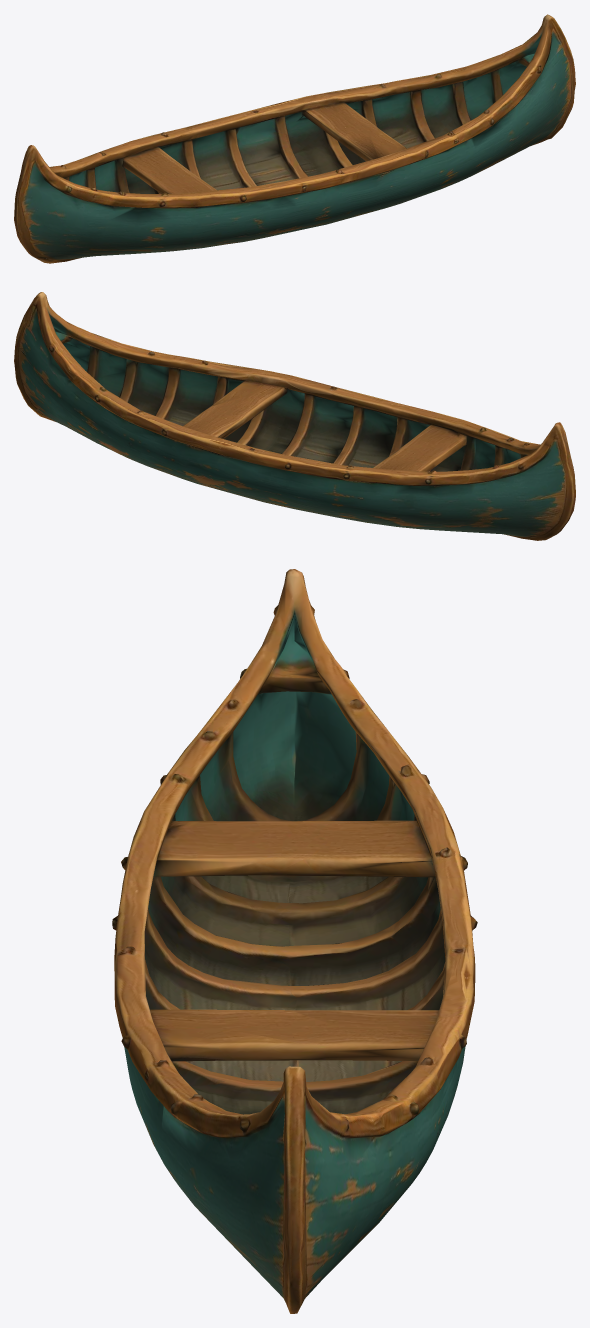
Rendered from boat-canoe.glb.
3 renders of one model, top to bottom at view 1: azimuth 30°, elevation 25°; view 2: azimuth 150°, elevation 25°; view 3: azimuth 270°, elevation 25°, orthographic. The views are drawn at different scales.
Parts seen in each view (by area): view 1: tripo_node_be047f17-dfc5-4534-b710-62bfc8351c50; view 2: tripo_node_be047f17-dfc5-4534-b710-62bfc8351c50; view 3: tripo_node_be047f17-dfc5-4534-b710-62bfc8351c50.
Boxes of the visible parts, x1,y1,x2,y2 form: tripo_node_be047f17-dfc5-4534-b710-62bfc8351c50: (14, 14, 575, 263); tripo_node_be047f17-dfc5-4534-b710-62bfc8351c50: (14, 292, 575, 540); tripo_node_be047f17-dfc5-4534-b710-62bfc8351c50: (112, 569, 477, 1313).
Size of the model in its own units: 1 by 0.2346 by 0.2826.
1 material, 1 textured.
